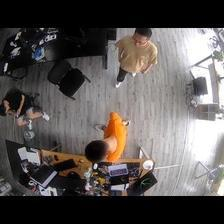normal: (112, 29, 158, 89), (86, 112, 132, 161)
